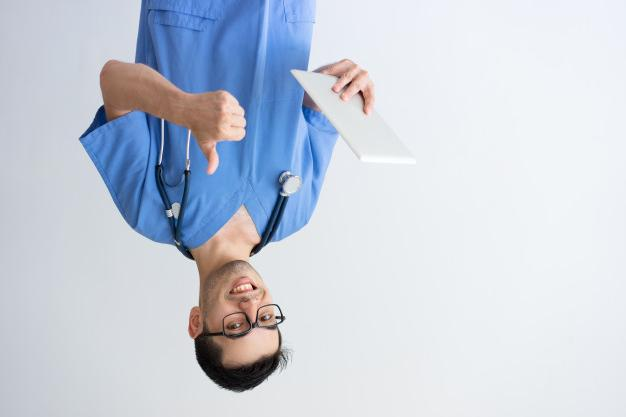thumbsdown: (203, 90, 247, 175)
